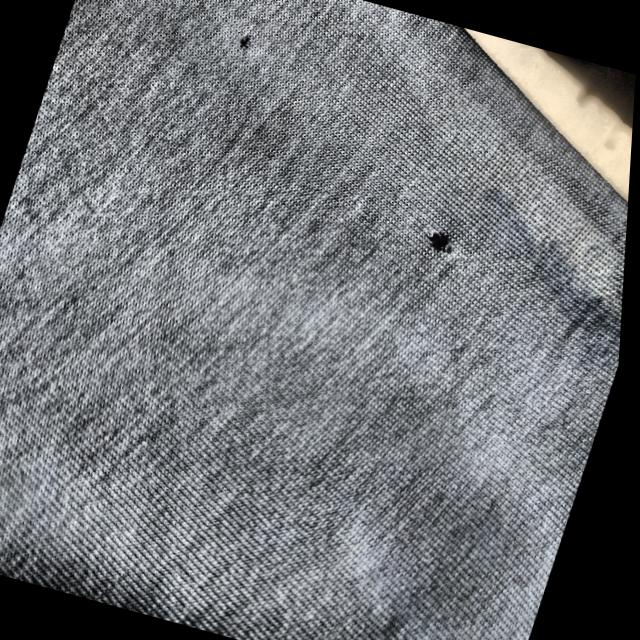Hole: (418, 218, 466, 261), (232, 28, 260, 58)
